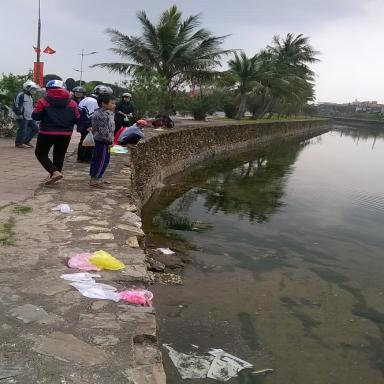person: (29, 77, 77, 190), (86, 90, 117, 192), (70, 84, 100, 169), (8, 80, 38, 154), (113, 90, 135, 132)
plasticbag: (162, 343, 256, 384), (60, 274, 156, 304), (64, 249, 131, 273), (81, 129, 100, 149), (51, 202, 77, 214), (108, 144, 128, 155)
